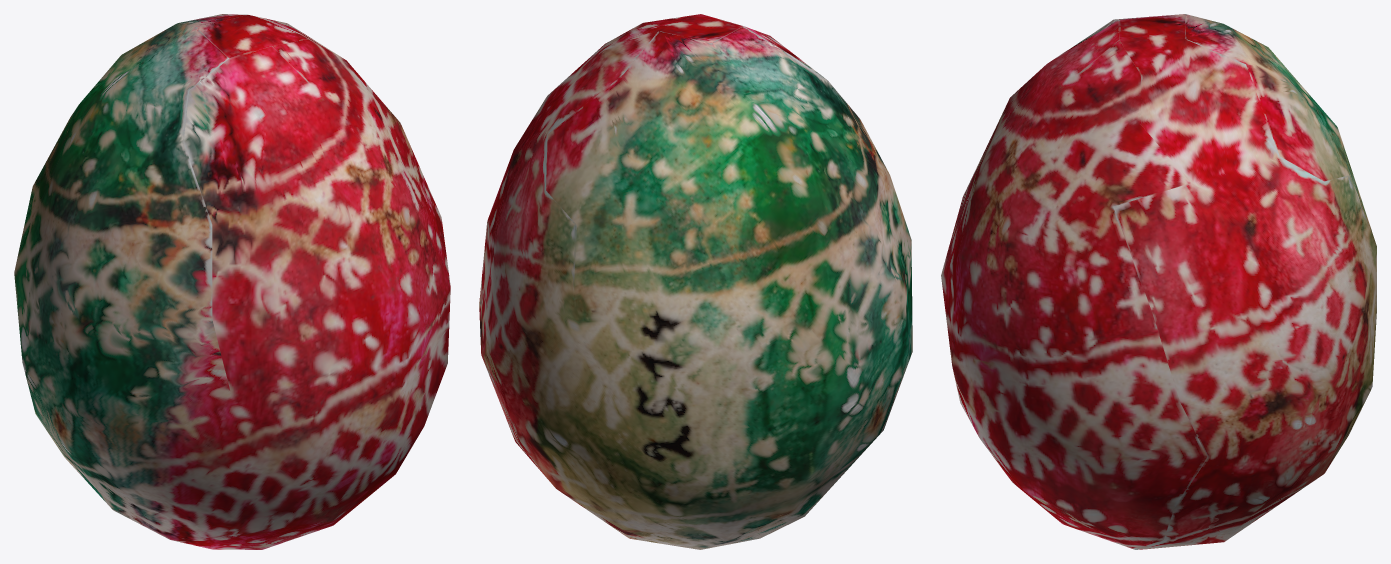
The picture shows the model from 3 angles, left to right: view 1: azimuth 30°, elevation 25°; view 2: azimuth 150°, elevation 25°; view 3: azimuth 270°, elevation 25°; orthographic projection.
Visible parts, largest first — view 1: pMesh1; view 2: pMesh1; view 3: pMesh1.
Boxes of the visible parts, <box> form: pMesh1: <box>14,14,450,549</box>; pMesh1: <box>479,14,912,549</box>; pMesh1: <box>941,14,1376,549</box>.
Size of the model in its own units: 41.29 by 52.58 by 41.18.
Materials: 1 (1 with a texture image).
